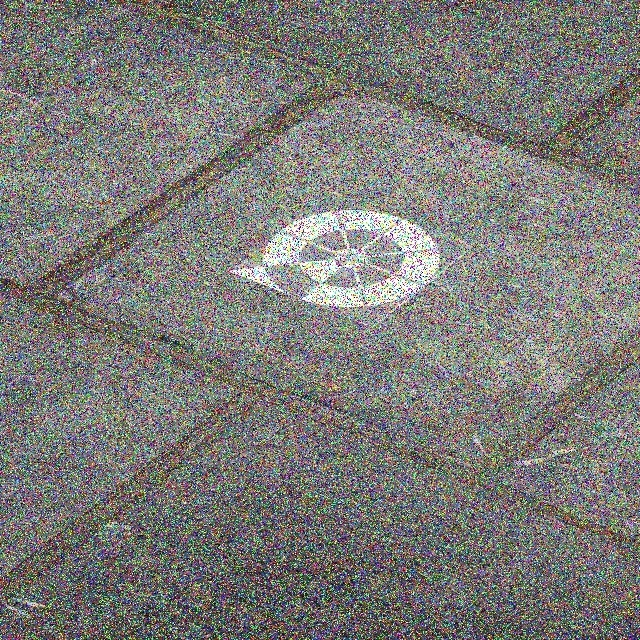landing-zone: (216, 197, 466, 331)
